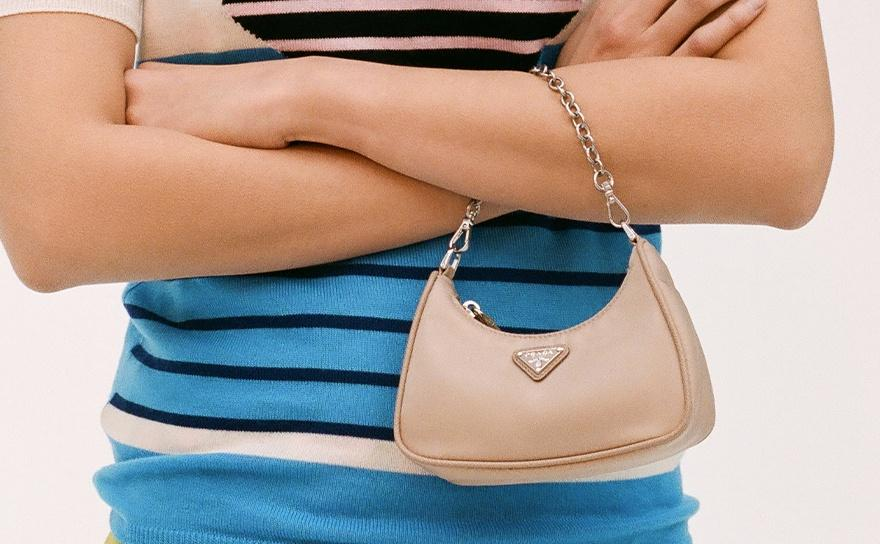PRADA: (517, 346, 564, 374)
